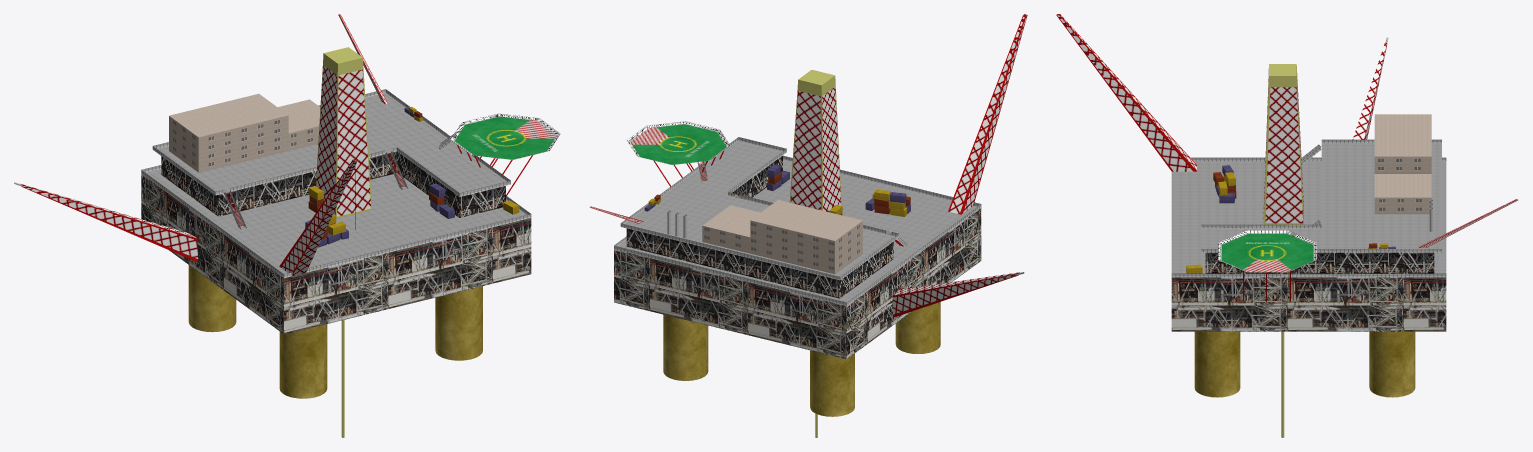
File: oil rig.glb
3 renders of one model, left to right at view 1: azimuth 30°, elevation 25°; view 2: azimuth 150°, elevation 25°; view 3: azimuth 270°, elevation 25°, orthographic. The views are drawn at different scales.
Parts seen in each view (by area): view 1: blah.009, blah.016, blah.010, blah.012, blah.014, blah.007, blah.015, blah.004, blah.008, blah.001, blah.013, blah.006 (+2 smaller); view 2: blah.009, blah.016, blah.010, blah.012, blah.014, blah.007, blah.015, blah.004, blah.008, blah.013, blah.001, blah.006 (+3 smaller); view 3: blah.016, blah.009, blah.010, blah.012, blah.004, blah.015, blah.014, blah.008, blah.007, blah.001, blah.013, blah.000 (+1 smaller).
Part boxes in pixels (<box>): blah.009: <box>141,174,531,334</box>; blah.016: <box>145,93,526,274</box>; blah.010: <box>21,14,387,275</box>; blah.012: <box>188,265,482,398</box>; blah.014: <box>161,151,505,217</box>; blah.007: <box>169,115,319,172</box>; blah.015: <box>141,89,531,277</box>; blah.004: <box>169,93,320,137</box>; blah.008: <box>455,116,556,159</box>; blah.001: <box>316,47,372,437</box>; blah.013: <box>21,15,533,275</box>; blah.006: <box>305,107,454,247</box>; blah.009: <box>614,208,981,359</box>; blah.016: <box>618,140,977,302</box>; blah.010: <box>589,14,1027,314</box>; blah.012: <box>663,302,940,416</box>; blah.014: <box>626,155,893,298</box>; blah.007: <box>702,220,862,274</box>; blah.015: <box>614,137,981,305</box>; blah.004: <box>703,200,862,240</box>; blah.008: <box>631,124,726,164</box>; blah.013: <box>591,15,1027,317</box>; blah.001: <box>789,70,841,437</box>; blah.006: <box>644,164,910,213</box>; blah.016: <box>1171,143,1446,273</box>; blah.009: <box>1171,277,1446,331</box>; blah.010: <box>1056,14,1518,247</box>; blah.012: <box>1194,331,1415,397</box>; blah.004: <box>1374,114,1431,197</box>; blah.015: <box>1171,139,1446,277</box>; blah.014: <box>1205,252,1434,273</box>; blah.008: <box>1221,233,1313,272</box>; blah.007: <box>1374,156,1431,214</box>; blah.001: <box>1263,64,1303,437</box>; blah.013: <box>1056,14,1517,301</box>; blah.000: <box>1218,230,1316,272</box>.
Bounding box in the file's own units: 172 × 135 × 151.
18 materials, 13 textured.
